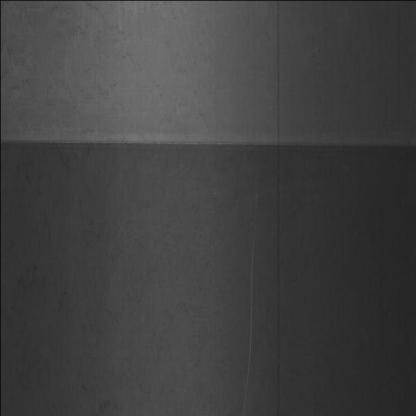welding_line: (0, 127, 414, 164)
